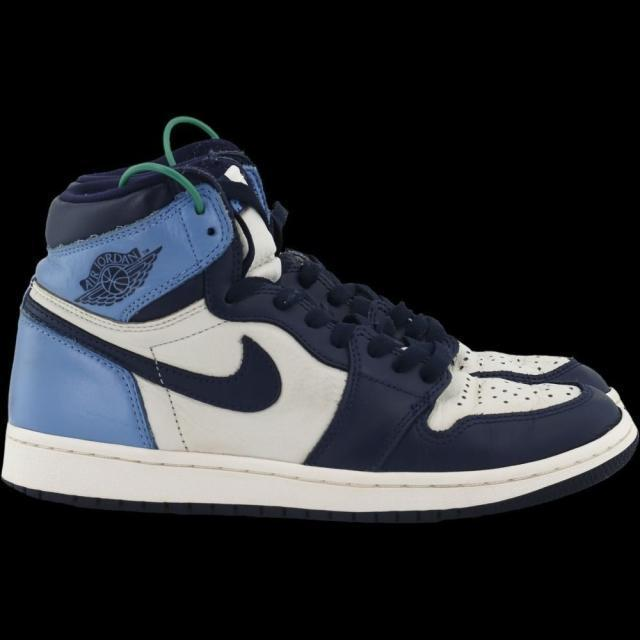nike original jordan 1: (0, 150, 640, 522), (44, 141, 636, 405)
